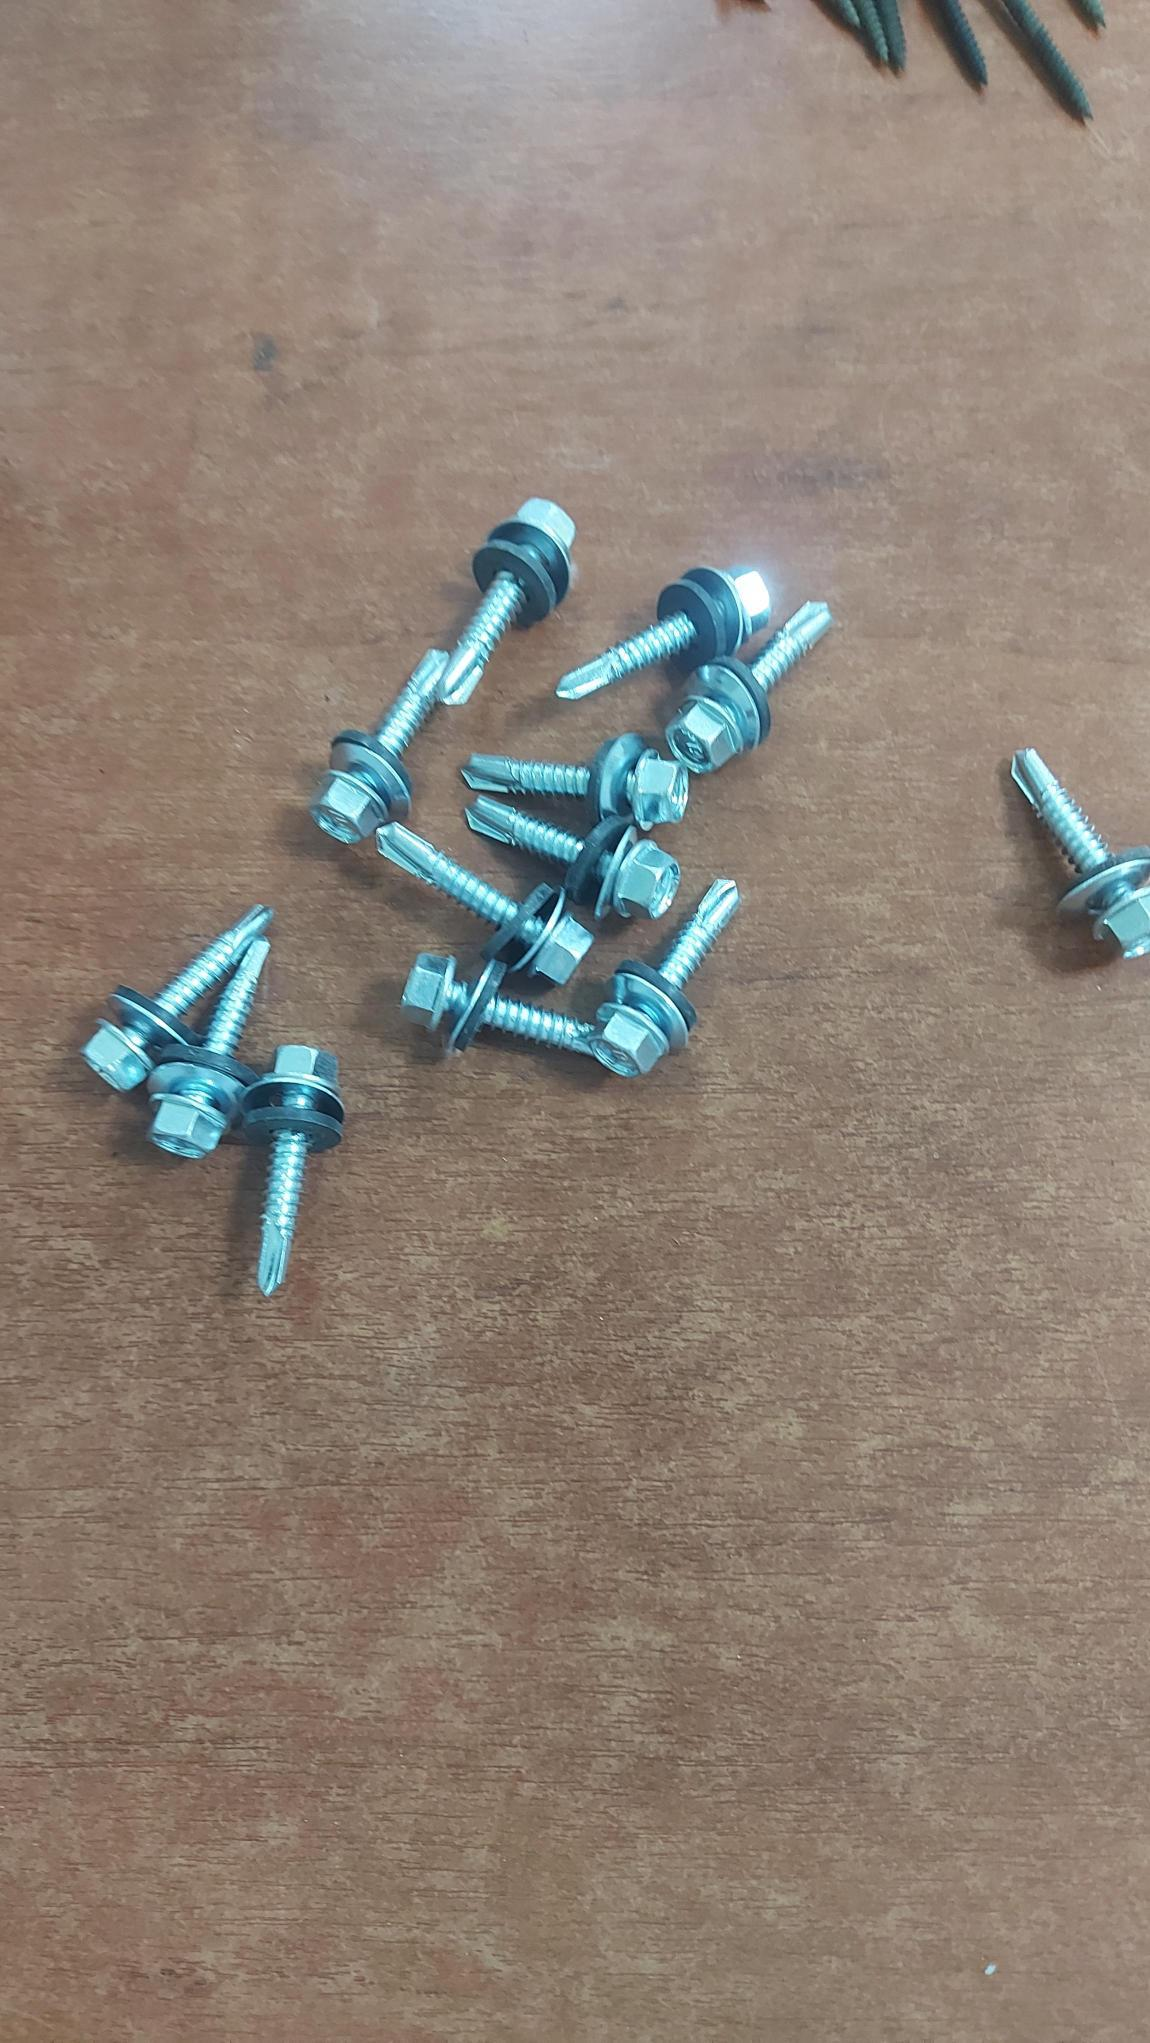Screw: (81, 906, 273, 1092), (376, 824, 593, 986), (1013, 744, 1149, 967), (590, 877, 738, 1076), (665, 602, 832, 775), (555, 567, 770, 699), (439, 500, 574, 704), (466, 793, 680, 920), (147, 937, 269, 1159), (240, 1044, 344, 1295), (331, 654, 459, 835), (470, 737, 683, 832), (401, 953, 590, 1057)
